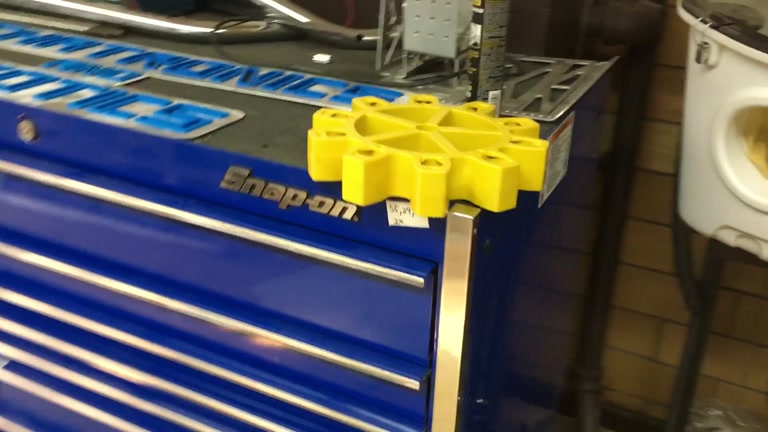gear: (306, 94, 549, 218)
